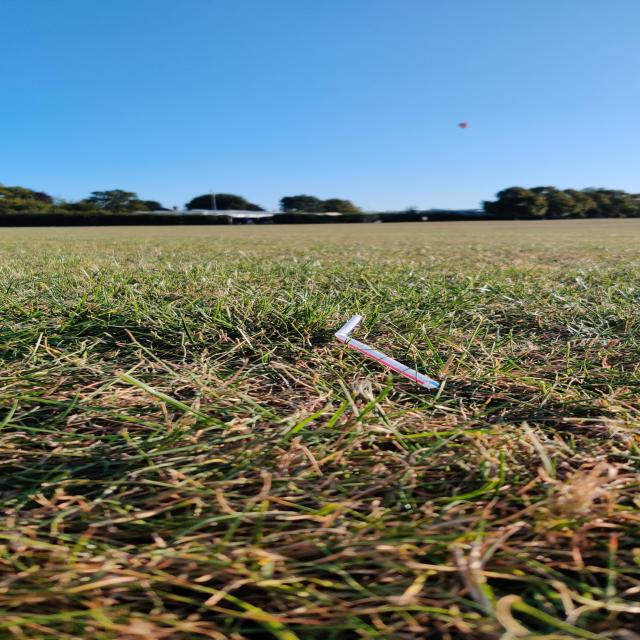litter: (289, 300, 480, 419)
